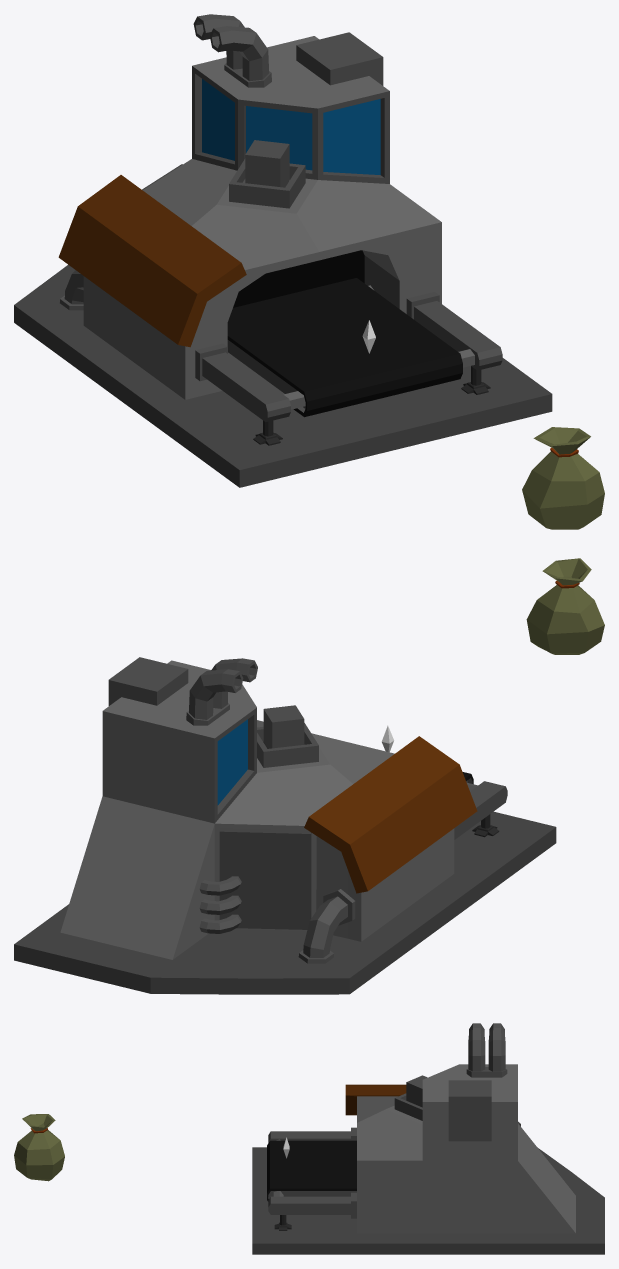
Rendered from conveer.fbx.
3 views of the same model, one above another, from view 1: azimuth 30°, elevation 25°; view 2: azimuth 150°, elevation 25°; view 3: azimuth 270°, elevation 25° (orthographic). The views are drawn at different scales.
Visible parts, largest first — view 1: Cube.002, Cube, Cylinder.001, Cylinder.006, Cube.001, Cylinder.002; view 2: Cube.002, Cylinder.001, Cylinder.006, Cylinder.002, Cylinder.005, Cube; view 3: Cube.002, Cube, Cylinder.001, Cylinder.006.
Boxes of the visible parts, <box> form: Cube.002: <box>14,32,552,487</box>; Cube: <box>195,278,502,422</box>; Cylinder.001: <box>522,427,604,529</box>; Cylinder.006: <box>193,14,271,87</box>; Cube.001: <box>253,366,490,445</box>; Cylinder.002: <box>60,270,83,310</box>; Cube.002: <box>14,657,556,994</box>; Cylinder.001: <box>526,558,604,654</box>; Cylinder.006: <box>186,658,257,725</box>; Cylinder.002: <box>298,889,355,963</box>; Cylinder.005: <box>199,876,241,933</box>; Cube: <box>454,772,507,839</box>; Cube.002: <box>252,1064,604,1254</box>; Cube: <box>267,1127,356,1218</box>; Cylinder.001: <box>14,1114,64,1181</box>; Cylinder.006: <box>466,1023,507,1077</box>.
Bounding box in the file's own units: 193 × 171 × 501.
